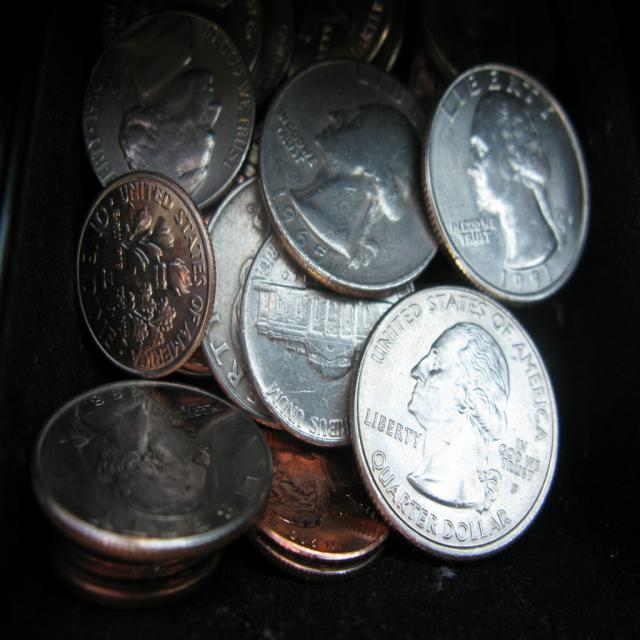Coin: (26, 0, 591, 609), (353, 285, 561, 560)
